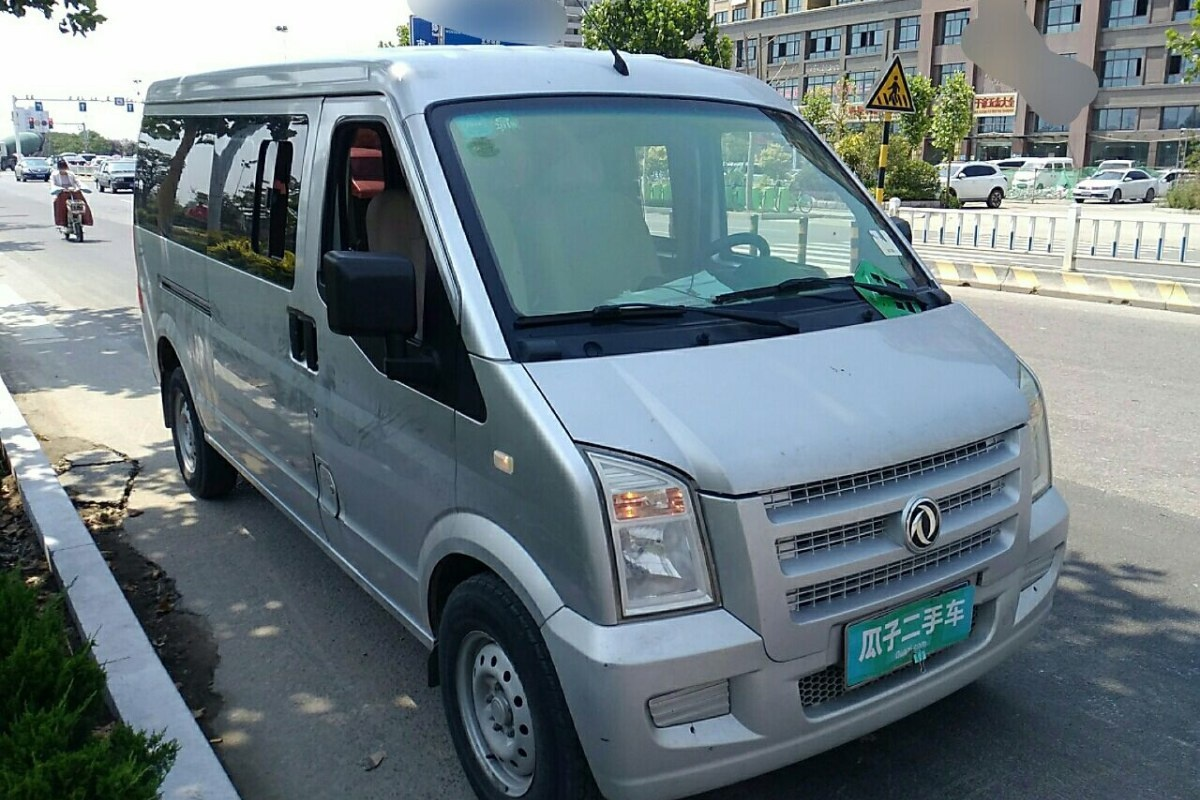minibus: (101, 56, 1109, 786)
